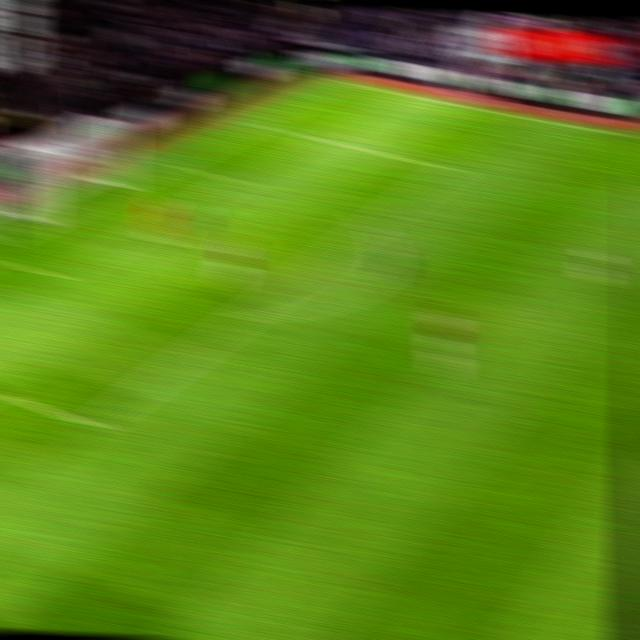bigarea_bottom_inner: (75, 408, 113, 440)
bigarea_top_inner: (438, 158, 470, 178)
bigarea_top_outter: (241, 113, 272, 131)
bottom_arc_area_intersection: (229, 304, 262, 328)
corner: (328, 73, 362, 89)
smallarea_bottom_inner: (41, 260, 75, 290)
smallarea_top_inner: (222, 170, 253, 190)
smallarea_top_outter: (158, 152, 190, 173)
top_arc_area_intersection: (356, 215, 388, 236)
